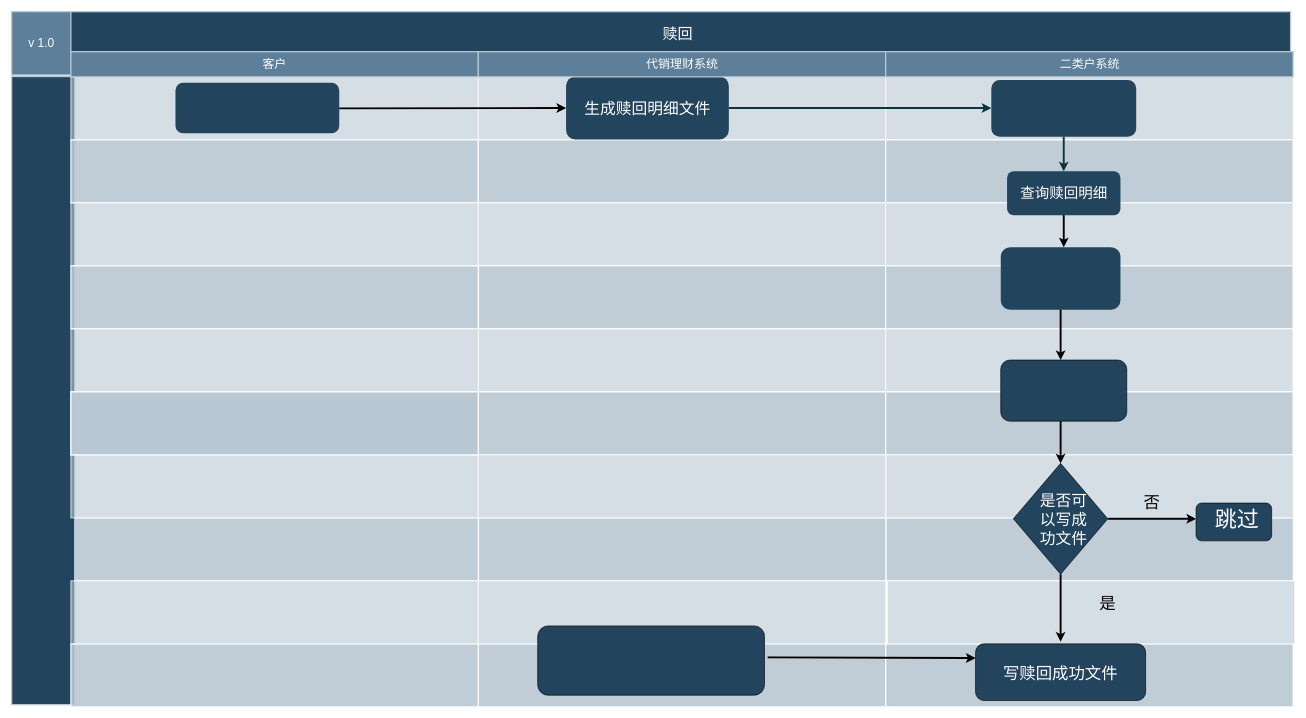
This 1306x718 diagram has some shape labels left out. The centre of each missing label's shape, as x and y in pixels:
发起赎回: (x=257, y=108)
更新赎回明细状态: (x=1063, y=390)
读取赎回成功文件: (x=651, y=660)
读取赎回文件并入库: (x=1063, y=108)
调用SI_ACC80006 记账: (x=1060, y=278)
阶段: (x=43, y=390)
